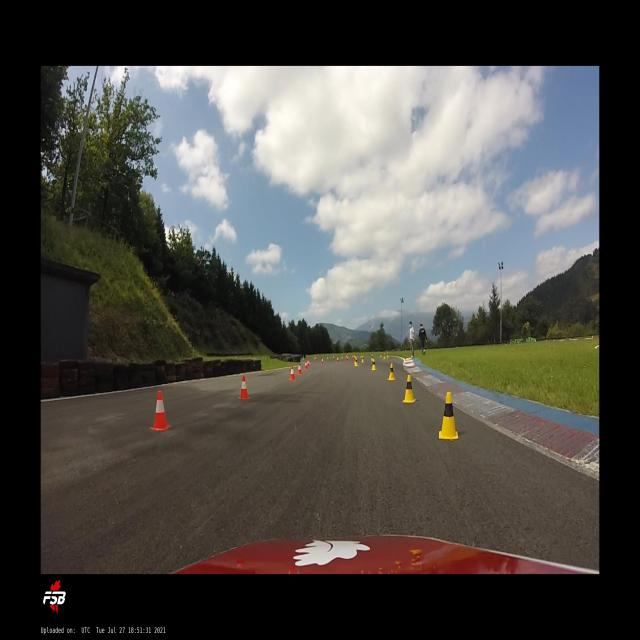orange_cone: (150, 390, 171, 431), (238, 376, 250, 400), (290, 367, 296, 380), (298, 362, 302, 374), (305, 361, 308, 369), (307, 359, 309, 367), (337, 358, 339, 361), (322, 359, 323, 363), (333, 356, 334, 360), (347, 357, 348, 360)
yellow_cone: (438, 392, 458, 440), (403, 374, 416, 402), (388, 363, 396, 380), (372, 358, 376, 371), (354, 357, 358, 367), (361, 355, 364, 363), (383, 353, 386, 359), (371, 354, 373, 361), (387, 352, 389, 358), (380, 352, 382, 358), (327, 356, 329, 360), (314, 356, 316, 359), (342, 356, 343, 359)
